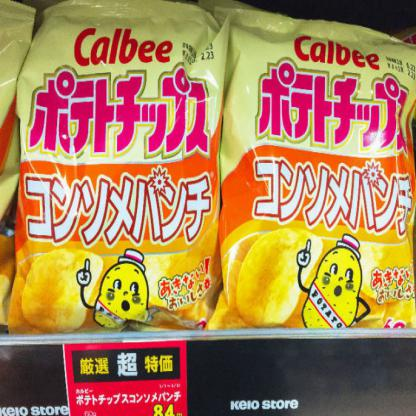potatochip: (199, 0, 415, 373), (12, 0, 233, 353)
